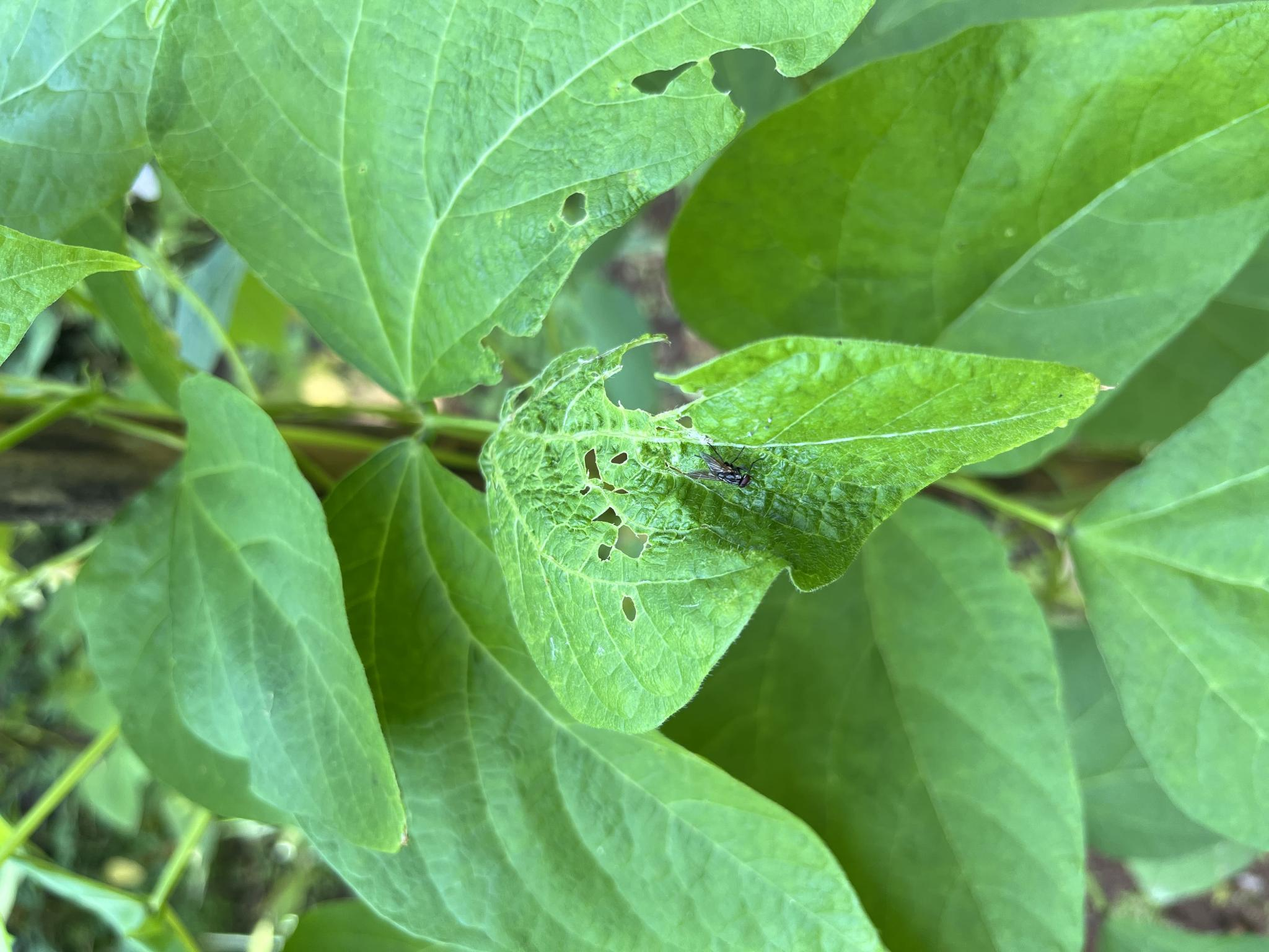mozaik: (428, 47, 793, 404), (478, 320, 789, 464), (575, 434, 678, 654)
